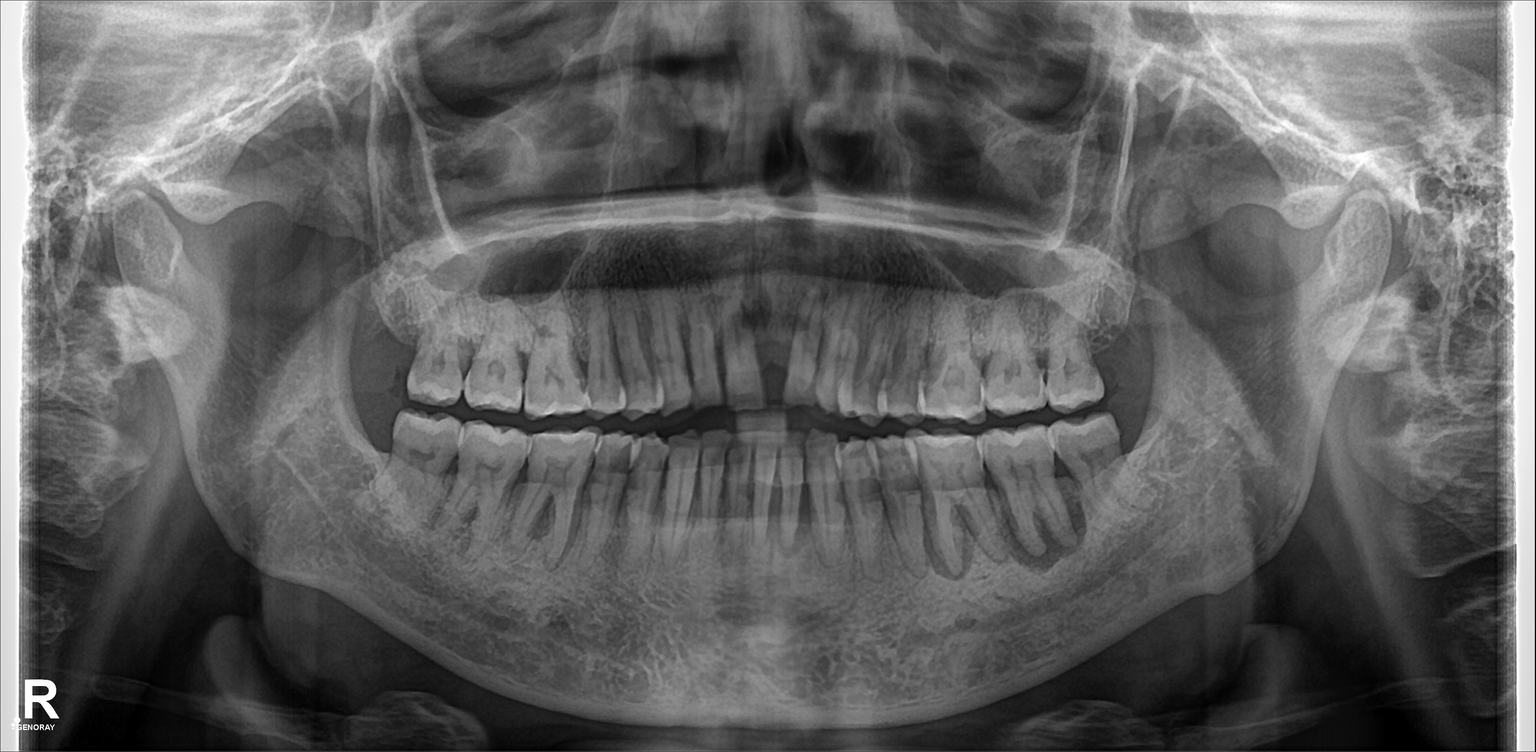Missing Tooth: (350, 385, 392, 495), (367, 279, 414, 369), (1089, 292, 1131, 372)
Periapical Lesion: (1006, 503, 1091, 576)
